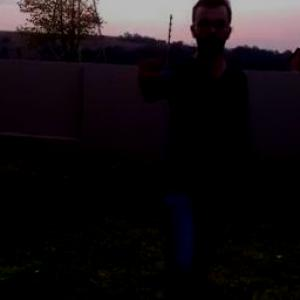takeoff-hand: (125, 43, 164, 81)
